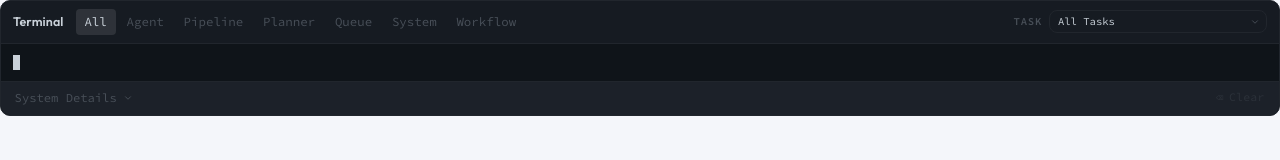
Test: TerminalFeed › renders only the all-tasks option when there are no task scopes
Click the button with aria-label "Terminal task scope": (1158, 22) [1049,10,1267,34]
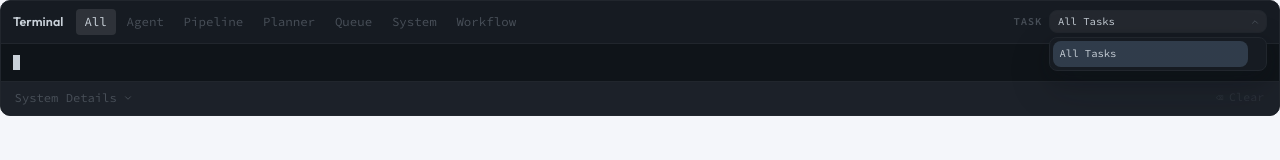
Now the number of options is 1, box [1053,42,1248,67]
Now the option reads "All Tasks", box [1053,42,1248,67]
